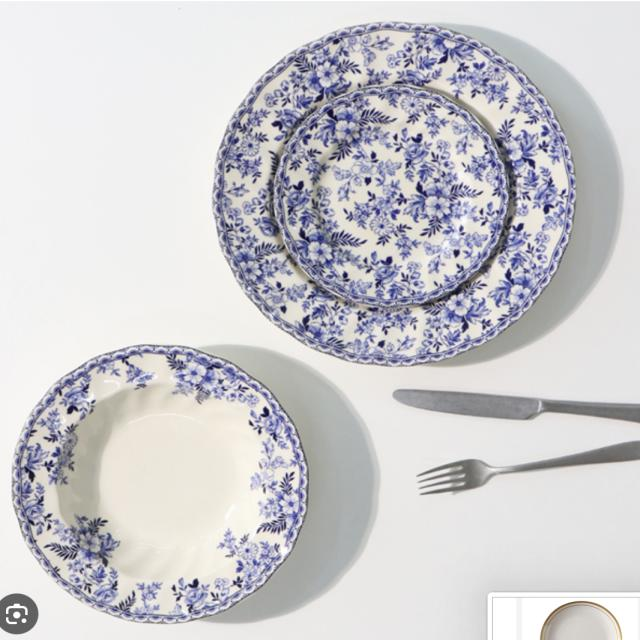recyclable: (207, 12, 587, 374), (9, 342, 318, 618)
